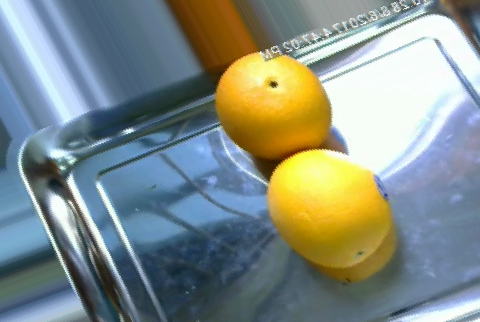Orange: (267, 149, 391, 268), (214, 51, 332, 160)
